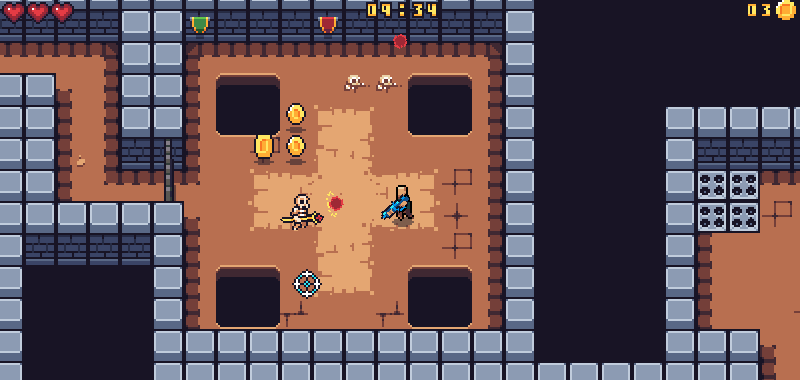enemy_skeleton: (279, 193, 323, 229)
enemy_skeleton_shoot: (326, 194, 343, 211)
gold: (284, 99, 308, 126), (283, 133, 307, 159), (253, 133, 272, 158)
trap_door: (158, 125, 177, 208)
trap_off: (697, 171, 757, 233)
